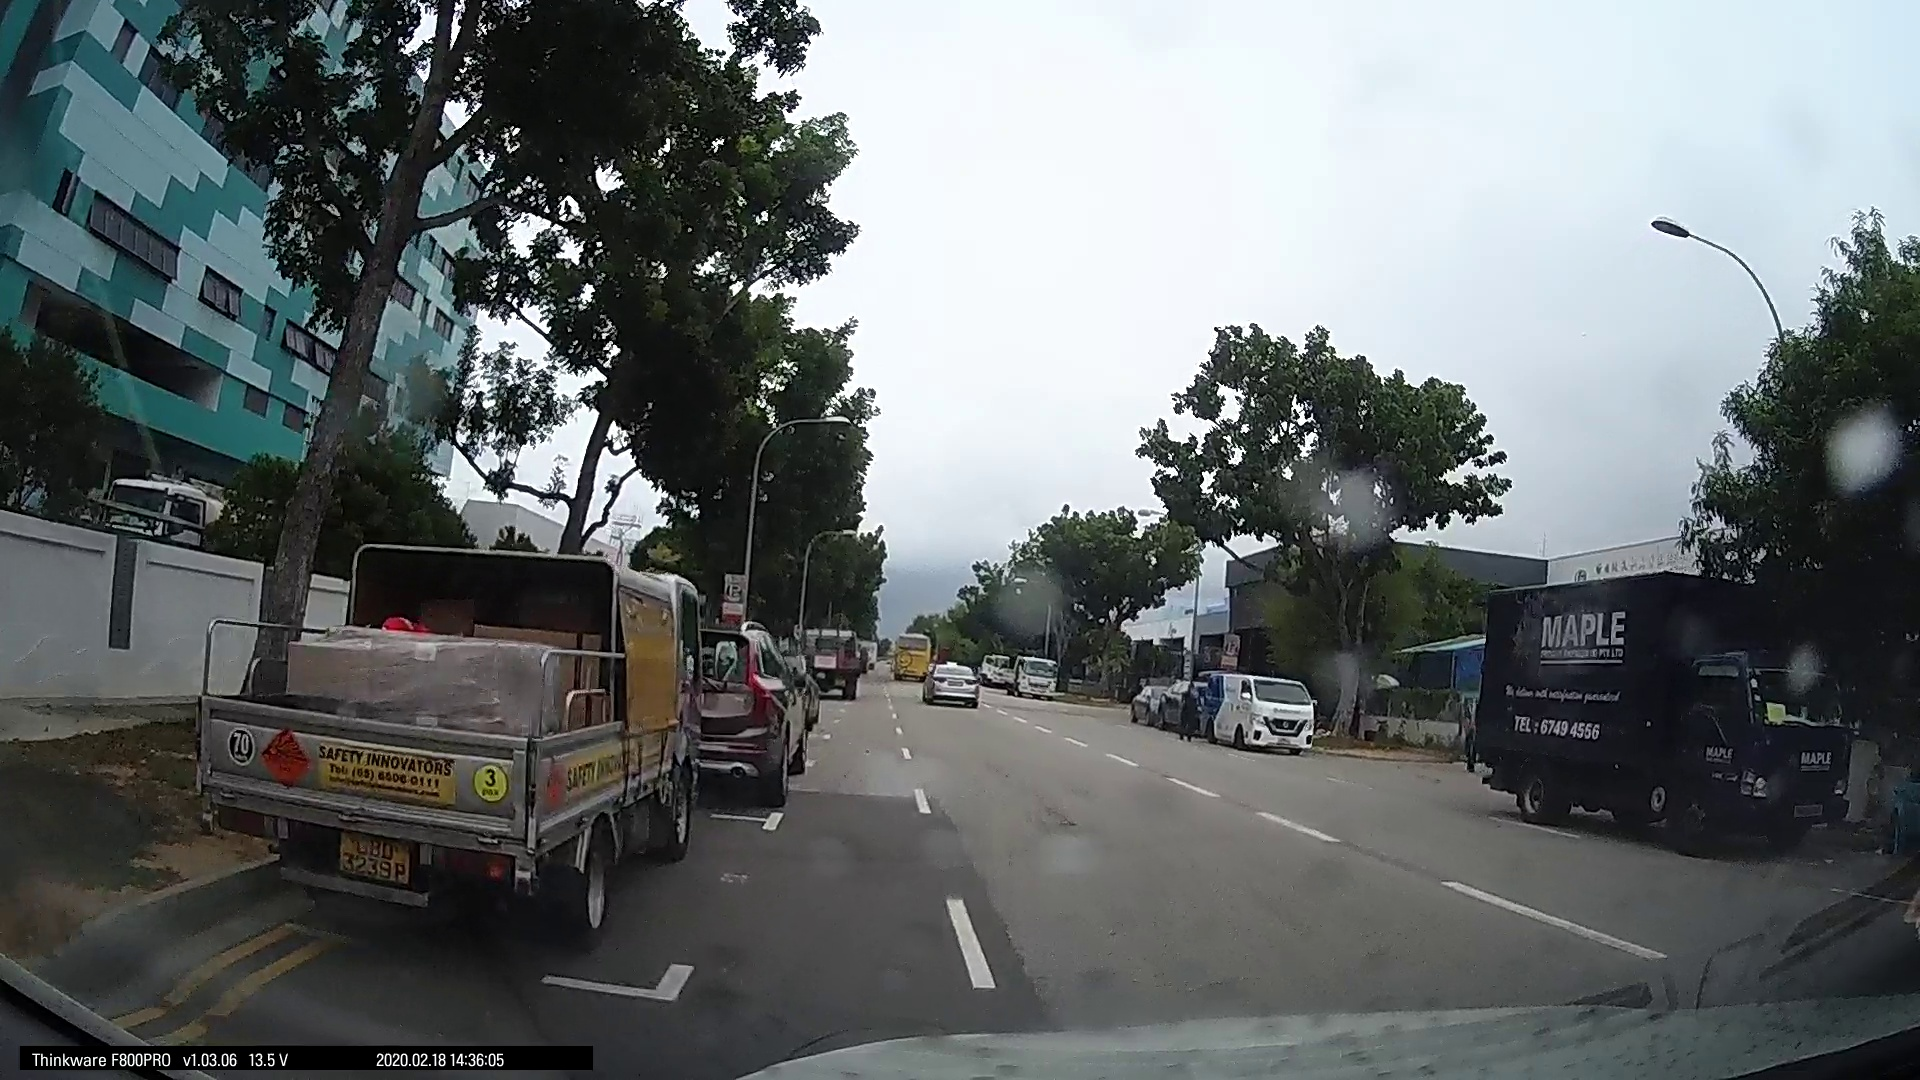Heavy Vehicle: (214, 534, 715, 936), (1461, 575, 1851, 856)
Light Vehicle: (683, 621, 802, 808), (1195, 669, 1316, 754), (919, 657, 980, 708), (1001, 651, 1056, 696)
